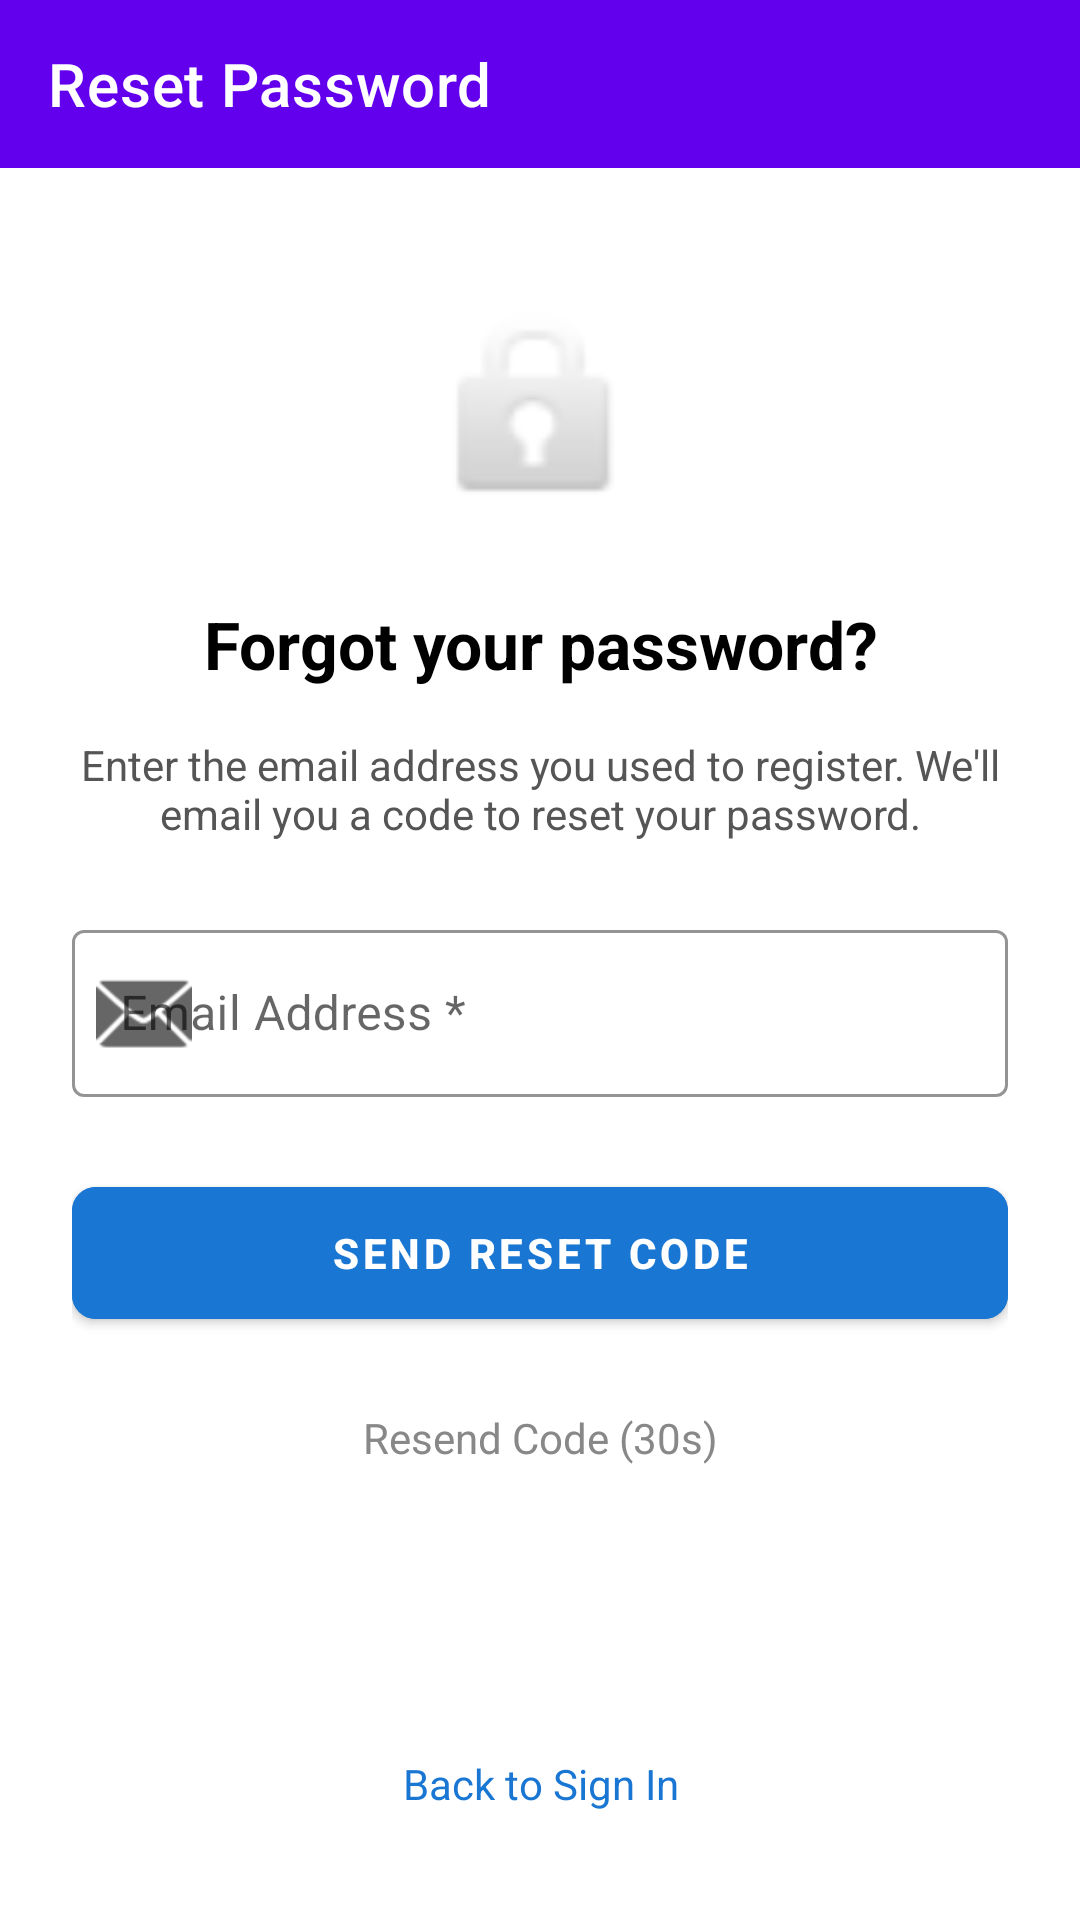

Icon click points for this 1080px x 1920px phone screenshot, format (x=x, y=y):
lock idle: (x=533, y=440)
